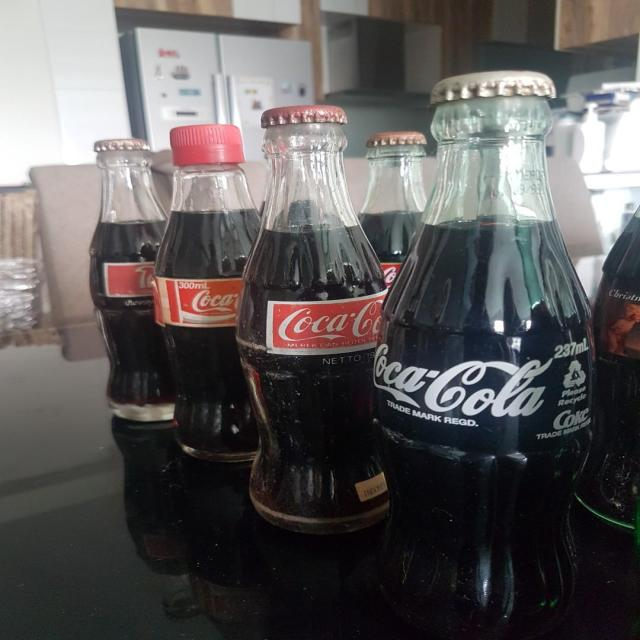glass bottle: (376, 67, 601, 640), (246, 102, 404, 538), (150, 123, 262, 459), (87, 139, 180, 424), (358, 129, 435, 267)
